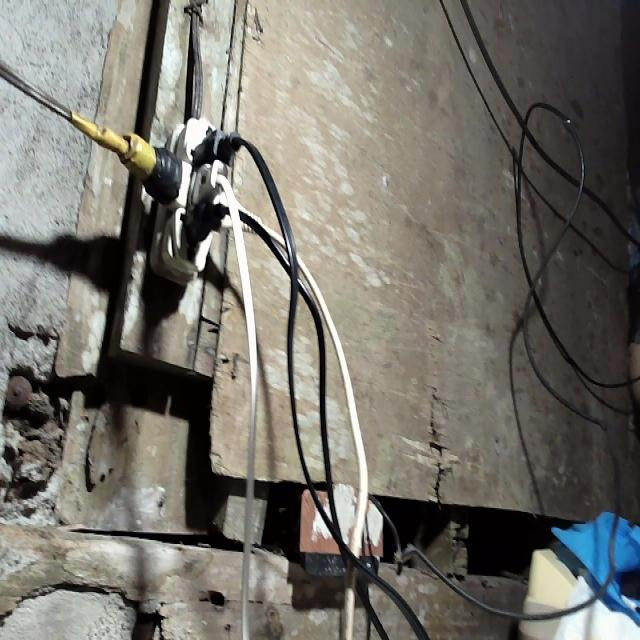-: (105, 112, 273, 288)
